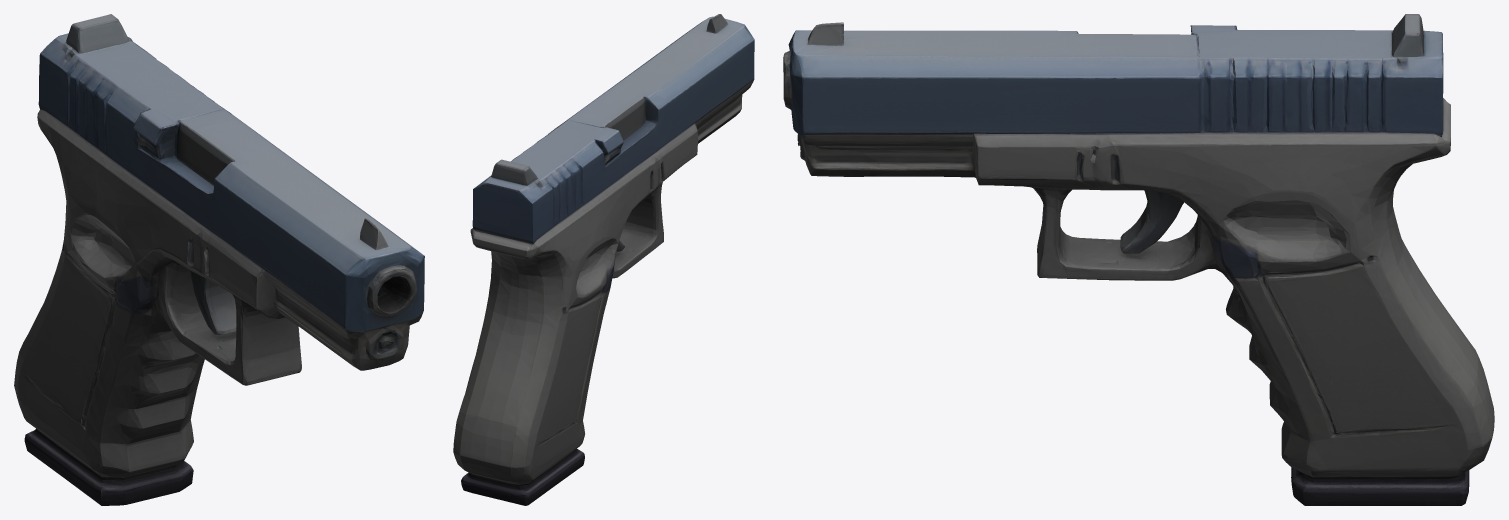
File: sidearm.glb
3 renders of one model, left to right at view 1: azimuth 30°, elevation 25°; view 2: azimuth 150°, elevation 25°; view 3: azimuth 270°, elevation 25°, orthographic. The views are drawn at different scales.
Visible parts, largest first — view 1: world; view 2: world; view 3: world.
Part boxes in pixels (left/top/right/bottom): world: left=14, top=14, right=424, bottom=505; world: left=453, top=14, right=754, bottom=505; world: left=783, top=14, right=1494, bottom=505.
Bounding box in the file's own units: 0.192 × 0.7135 × 0.9993.
1 material, 1 textured.
